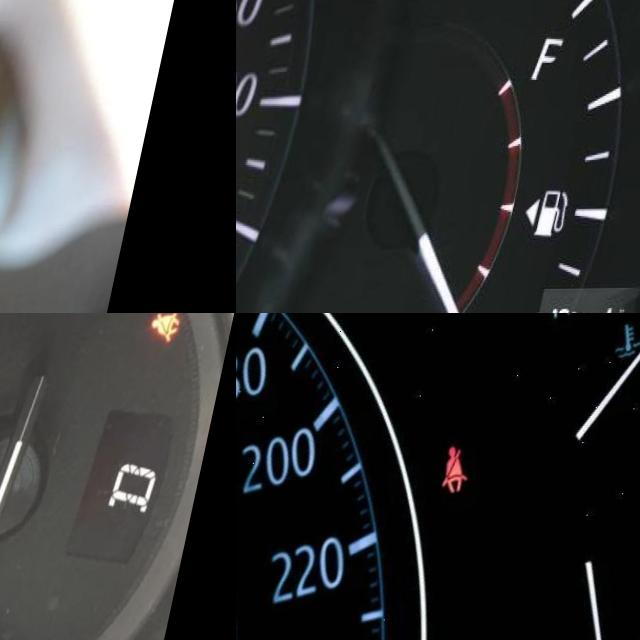Seat Belt: (446, 444, 487, 495), (155, 313, 195, 344)
